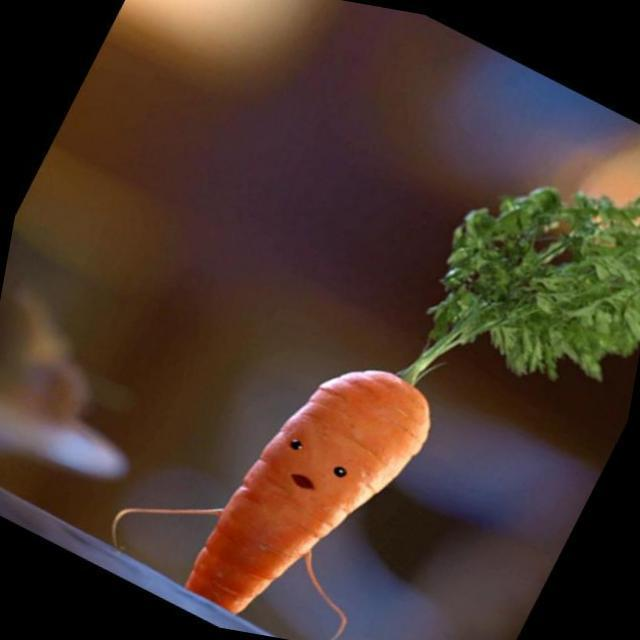Carrot: (188, 188, 640, 612)
